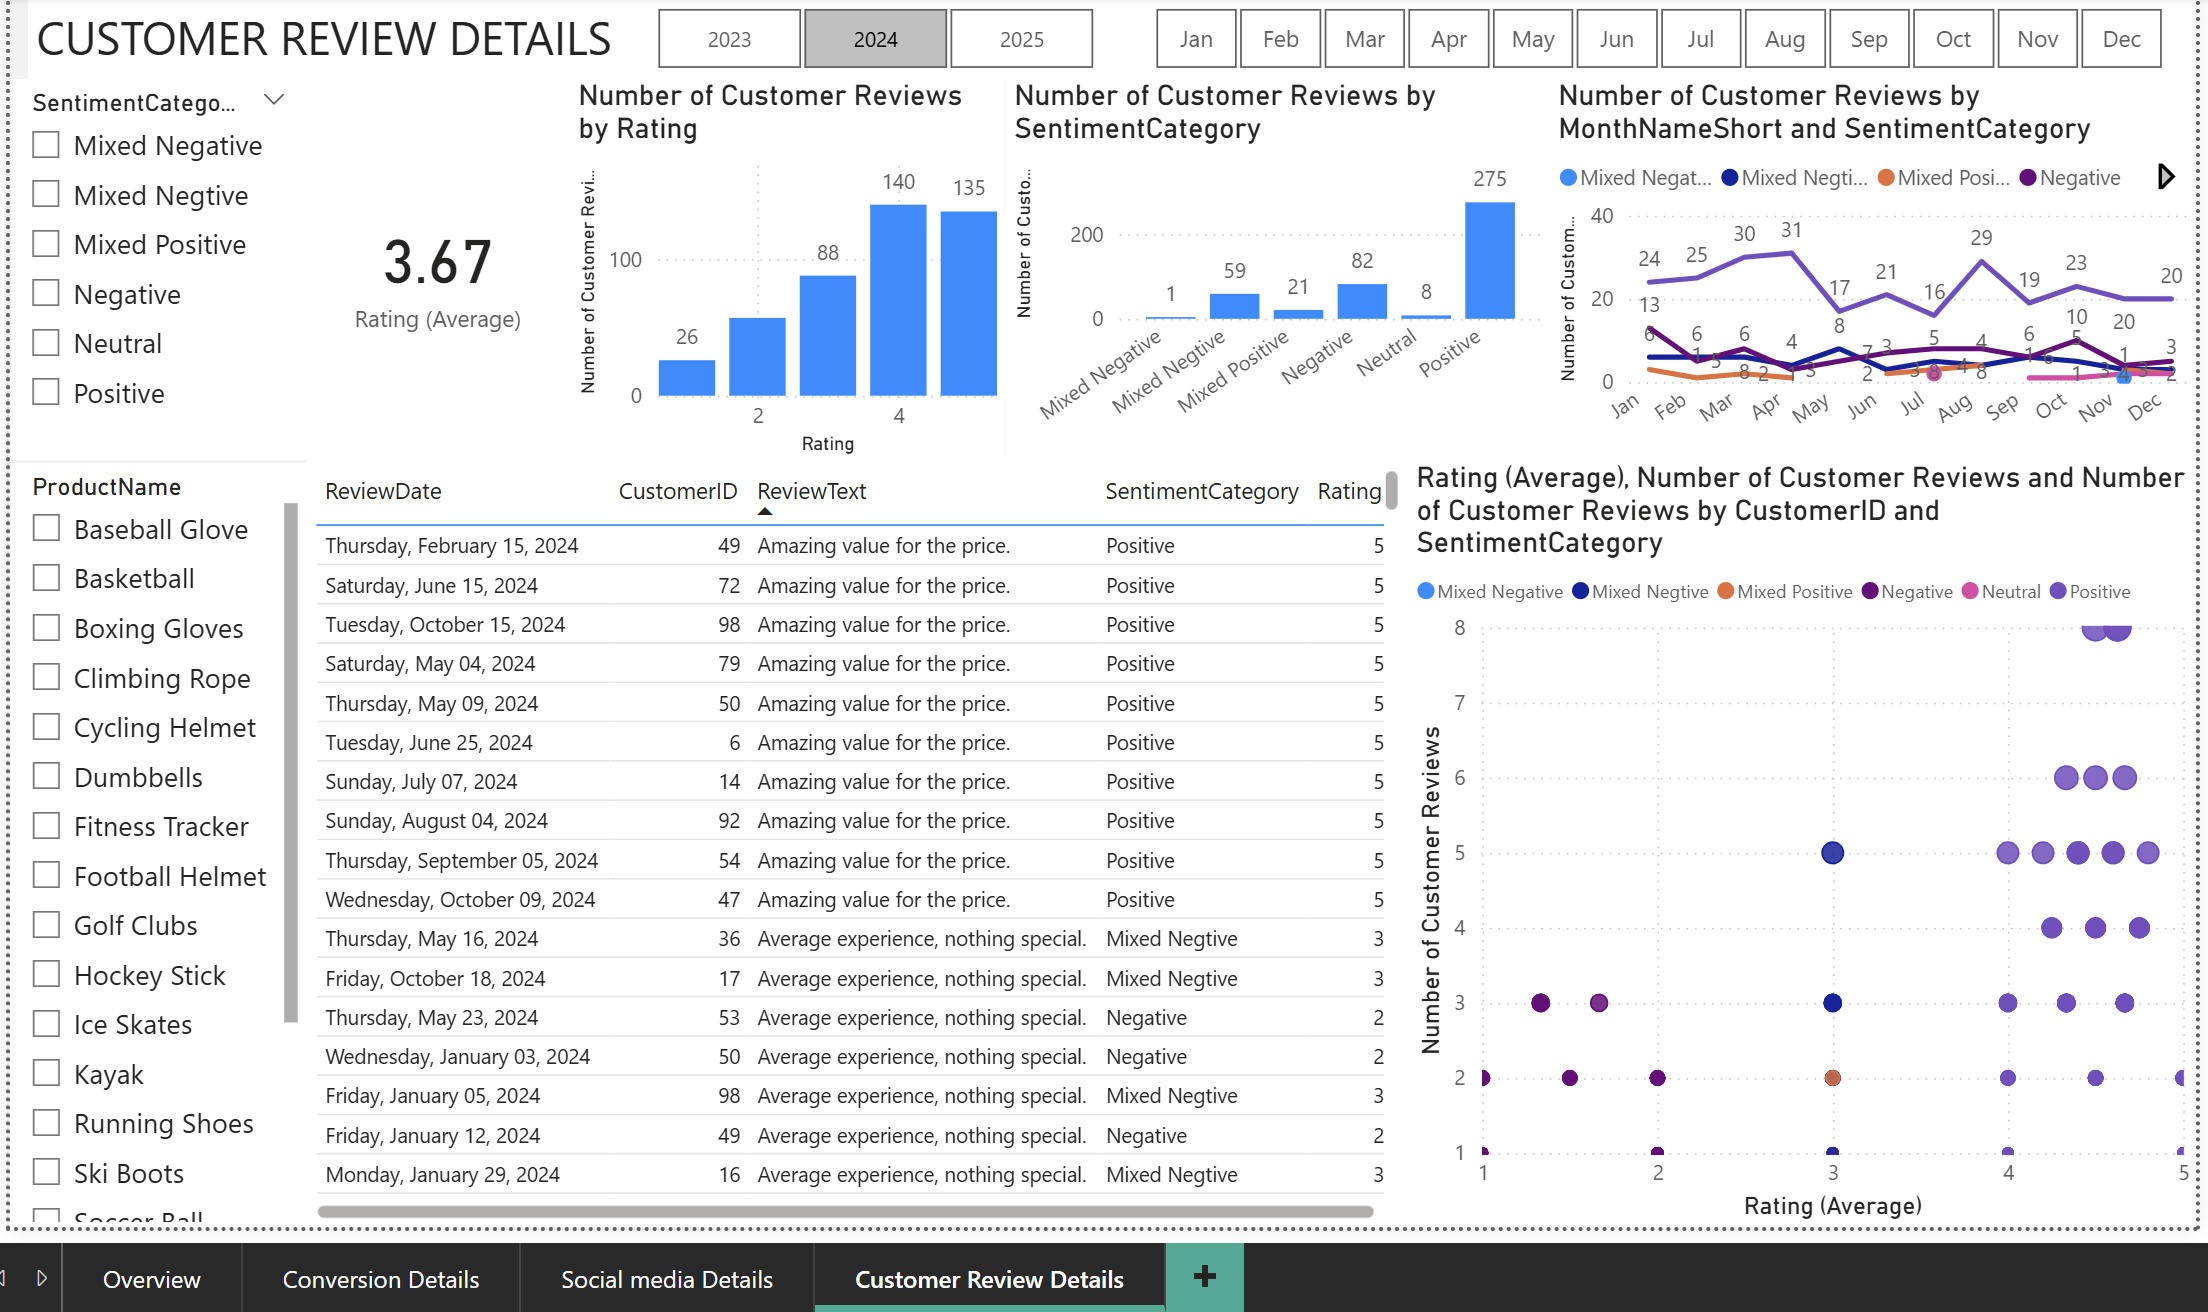

The page's visual inventory and layout, read from the dashboard file:
{"tool":"powerbi","page":{"name":"Customer Review Details","canvas":[1280,720],"ordinal":3},"visuals":[{"type":"textbox","box":[10.2,0,1269.8,48.4],"z":0},{"type":"slicer","fields":{"Values":["dim_products.ProductName"]},"box":[0,272.8,173.4,448.8],"z":1000},{"type":"slicer","fields":{"Values":["Calendar.Year"]},"box":[353.1,0,304.7,48.4],"z":2000},{"type":"slicer","fields":{"Values":["Calendar.MonthNameShort"]},"box":[645.1,0,638.7,48.4],"z":3000},{"type":"card","fields":{"Values":["_Calculations.Rating (Average)"]},"box":[173.4,48.4,154.3,224.4],"z":4000},{"type":"clusteredColumnChart","fields":{"Y":["_Calculations.Number of Customer Reviews"],"Category":["fact_customer_reviews_with_sentiment.Rating"]},"box":[327.6,48.4,255,224.4],"z":5000},{"type":"clusteredColumnChart","fields":{"Y":["_Calculations.Number of Customer Reviews"],"Category":["fact_customer_reviews_with_sentiment.SentimentCategory"]},"box":[582.6,48.4,318.7,224.4],"z":6000},{"type":"lineChart","fields":{"Category":["Calendar.MonthNameShort"],"Y":["_Calculations.Number of Customer Reviews"],"Series":["fact_customer_reviews_with_sentiment.SentimentCategory"]},"box":[901.4,48.4,379.9,224.4],"z":7000},{"type":"tableEx","fields":{"Values":["fact_customer_reviews_with_sentiment.ReviewDate","fact_customer_reviews_with_sentiment.CustomerID","fact_customer_reviews_with_sentiment.ReviewText","fact_customer_reviews_with_sentiment.SentimentCategory","fact_customer_reviews_with_sentiment.Rating"]},"box":[173.4,271.6,645.1,448.8],"z":8000},{"type":"scatterChart","fields":{"X":["_Calculations.Rating (Average)"],"Y":["_Calculations.Number of Customer Reviews"],"Category":["dim_customers.CustomerID"],"Series":["fact_customer_reviews_with_sentiment.SentimentCategory"],"Size":["_Calculations.Number of Customer Reviews"]},"box":[818.5,271.6,462.8,448.8],"z":9000},{"type":"slicer","fields":{"Values":["fact_customer_reviews_with_sentiment.SentimentCategory"]},"box":[0,48.4,173.4,223.1],"z":10000}]}

Visuals, with their boxes on the page's 1280x720 design canvas (x1, y1, x2, y2). These are canvas units, not pixel positions in the 2208x1312 screenshot, which may show the page scaled, cropped or inside an application window:
textbox: select_region(10, 0, 1280, 48)
slicer - dim_products.ProductName: select_region(0, 273, 173, 722)
slicer - Calendar.Year: select_region(353, 0, 658, 48)
slicer - Calendar.MonthNameShort: select_region(645, 0, 1284, 48)
card - _Calculations.Rating (Average): select_region(173, 48, 328, 273)
clusteredColumnChart - _Calculations.Number of Customer Reviews x fact_customer_reviews_with_sentiment.Rating: select_region(328, 48, 583, 273)
clusteredColumnChart - _Calculations.Number of Customer Reviews x fact_customer_reviews_with_sentiment.SentimentCategory: select_region(583, 48, 901, 273)
lineChart - Calendar.MonthNameShort x _Calculations.Number of Customer Reviews: select_region(901, 48, 1281, 273)
tableEx - fact_customer_reviews_with_sentiment.ReviewDate x fact_customer_reviews_with_sentiment.CustomerID: select_region(173, 272, 818, 720)
scatterChart - _Calculations.Rating (Average) x _Calculations.Number of Customer Reviews: select_region(818, 272, 1281, 720)
slicer - fact_customer_reviews_with_sentiment.SentimentCategory: select_region(0, 48, 173, 272)
